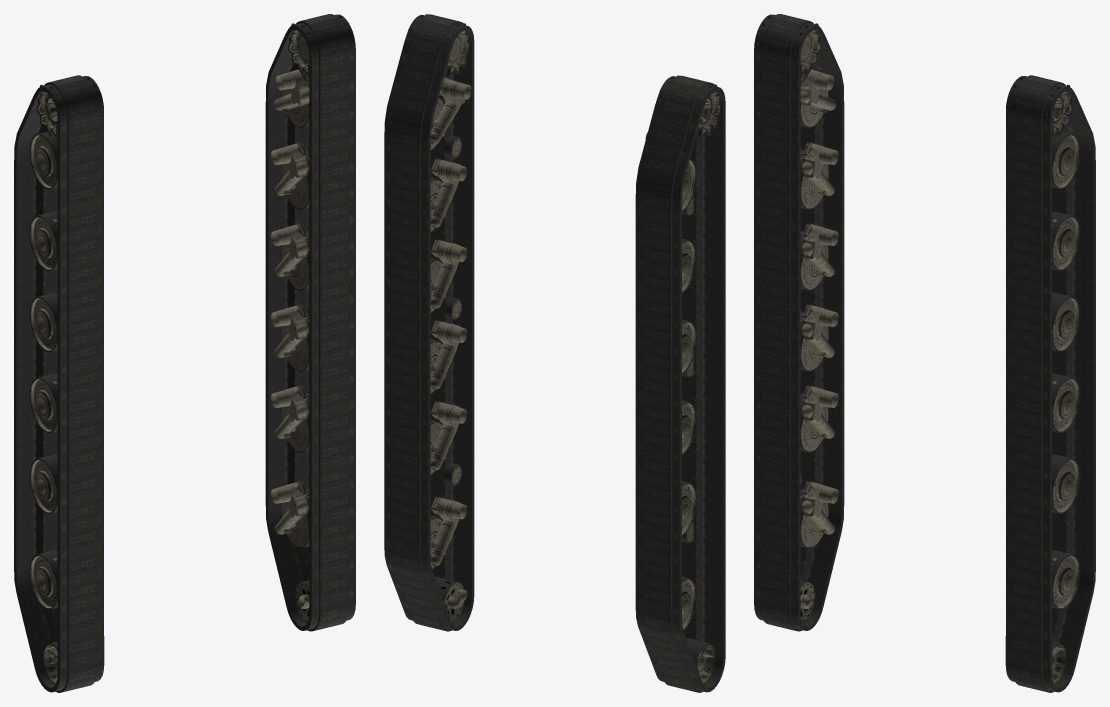
Rendered from Chassis.glb.
3 views of the same model, side by side, from view 1: azimuth 30°, elevation 25°; view 2: azimuth 150°, elevation 25°; view 3: azimuth 330°, elevation 25° (orthographic).
Parts seen in each view (by area): view 1: set_0_group_0, set_1_group_0, set_3_group_0, set_2_group_0; view 2: set_0_group_0, set_1_group_0, set_3_group_0, set_2_group_0; view 3: set_1_group_0, set_0_group_0, set_2_group_0, set_3_group_0.
Part boxes in pixels (x1,y1,x2,y2): set_0_group_0: [14, 75, 104, 692]; set_1_group_0: [265, 14, 355, 631]; set_3_group_0: [29, 69, 309, 684]; set_2_group_0: [281, 15, 353, 623]; set_0_group_0: [635, 75, 725, 692]; set_1_group_0: [384, 14, 474, 631]; set_3_group_0: [430, 75, 720, 684]; set_2_group_0: [406, 14, 647, 623]; set_1_group_0: [1005, 75, 1095, 692]; set_0_group_0: [754, 14, 844, 631]; set_2_group_0: [800, 69, 1080, 684]; set_3_group_0: [756, 15, 828, 623].
Size of the model in its own units: 3.15 by 6.17 by 0.8916.
Materials: 4 (4 with a texture image).
